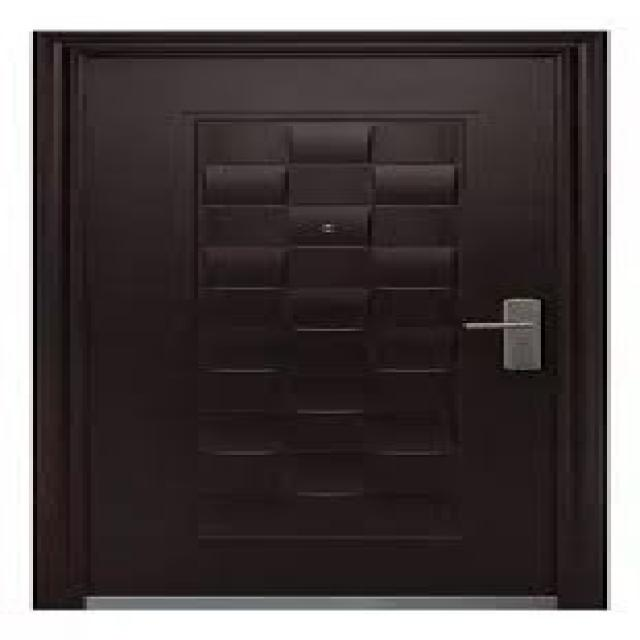door: (35, 31, 601, 610)
